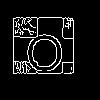O: (25, 25, 65, 72)
